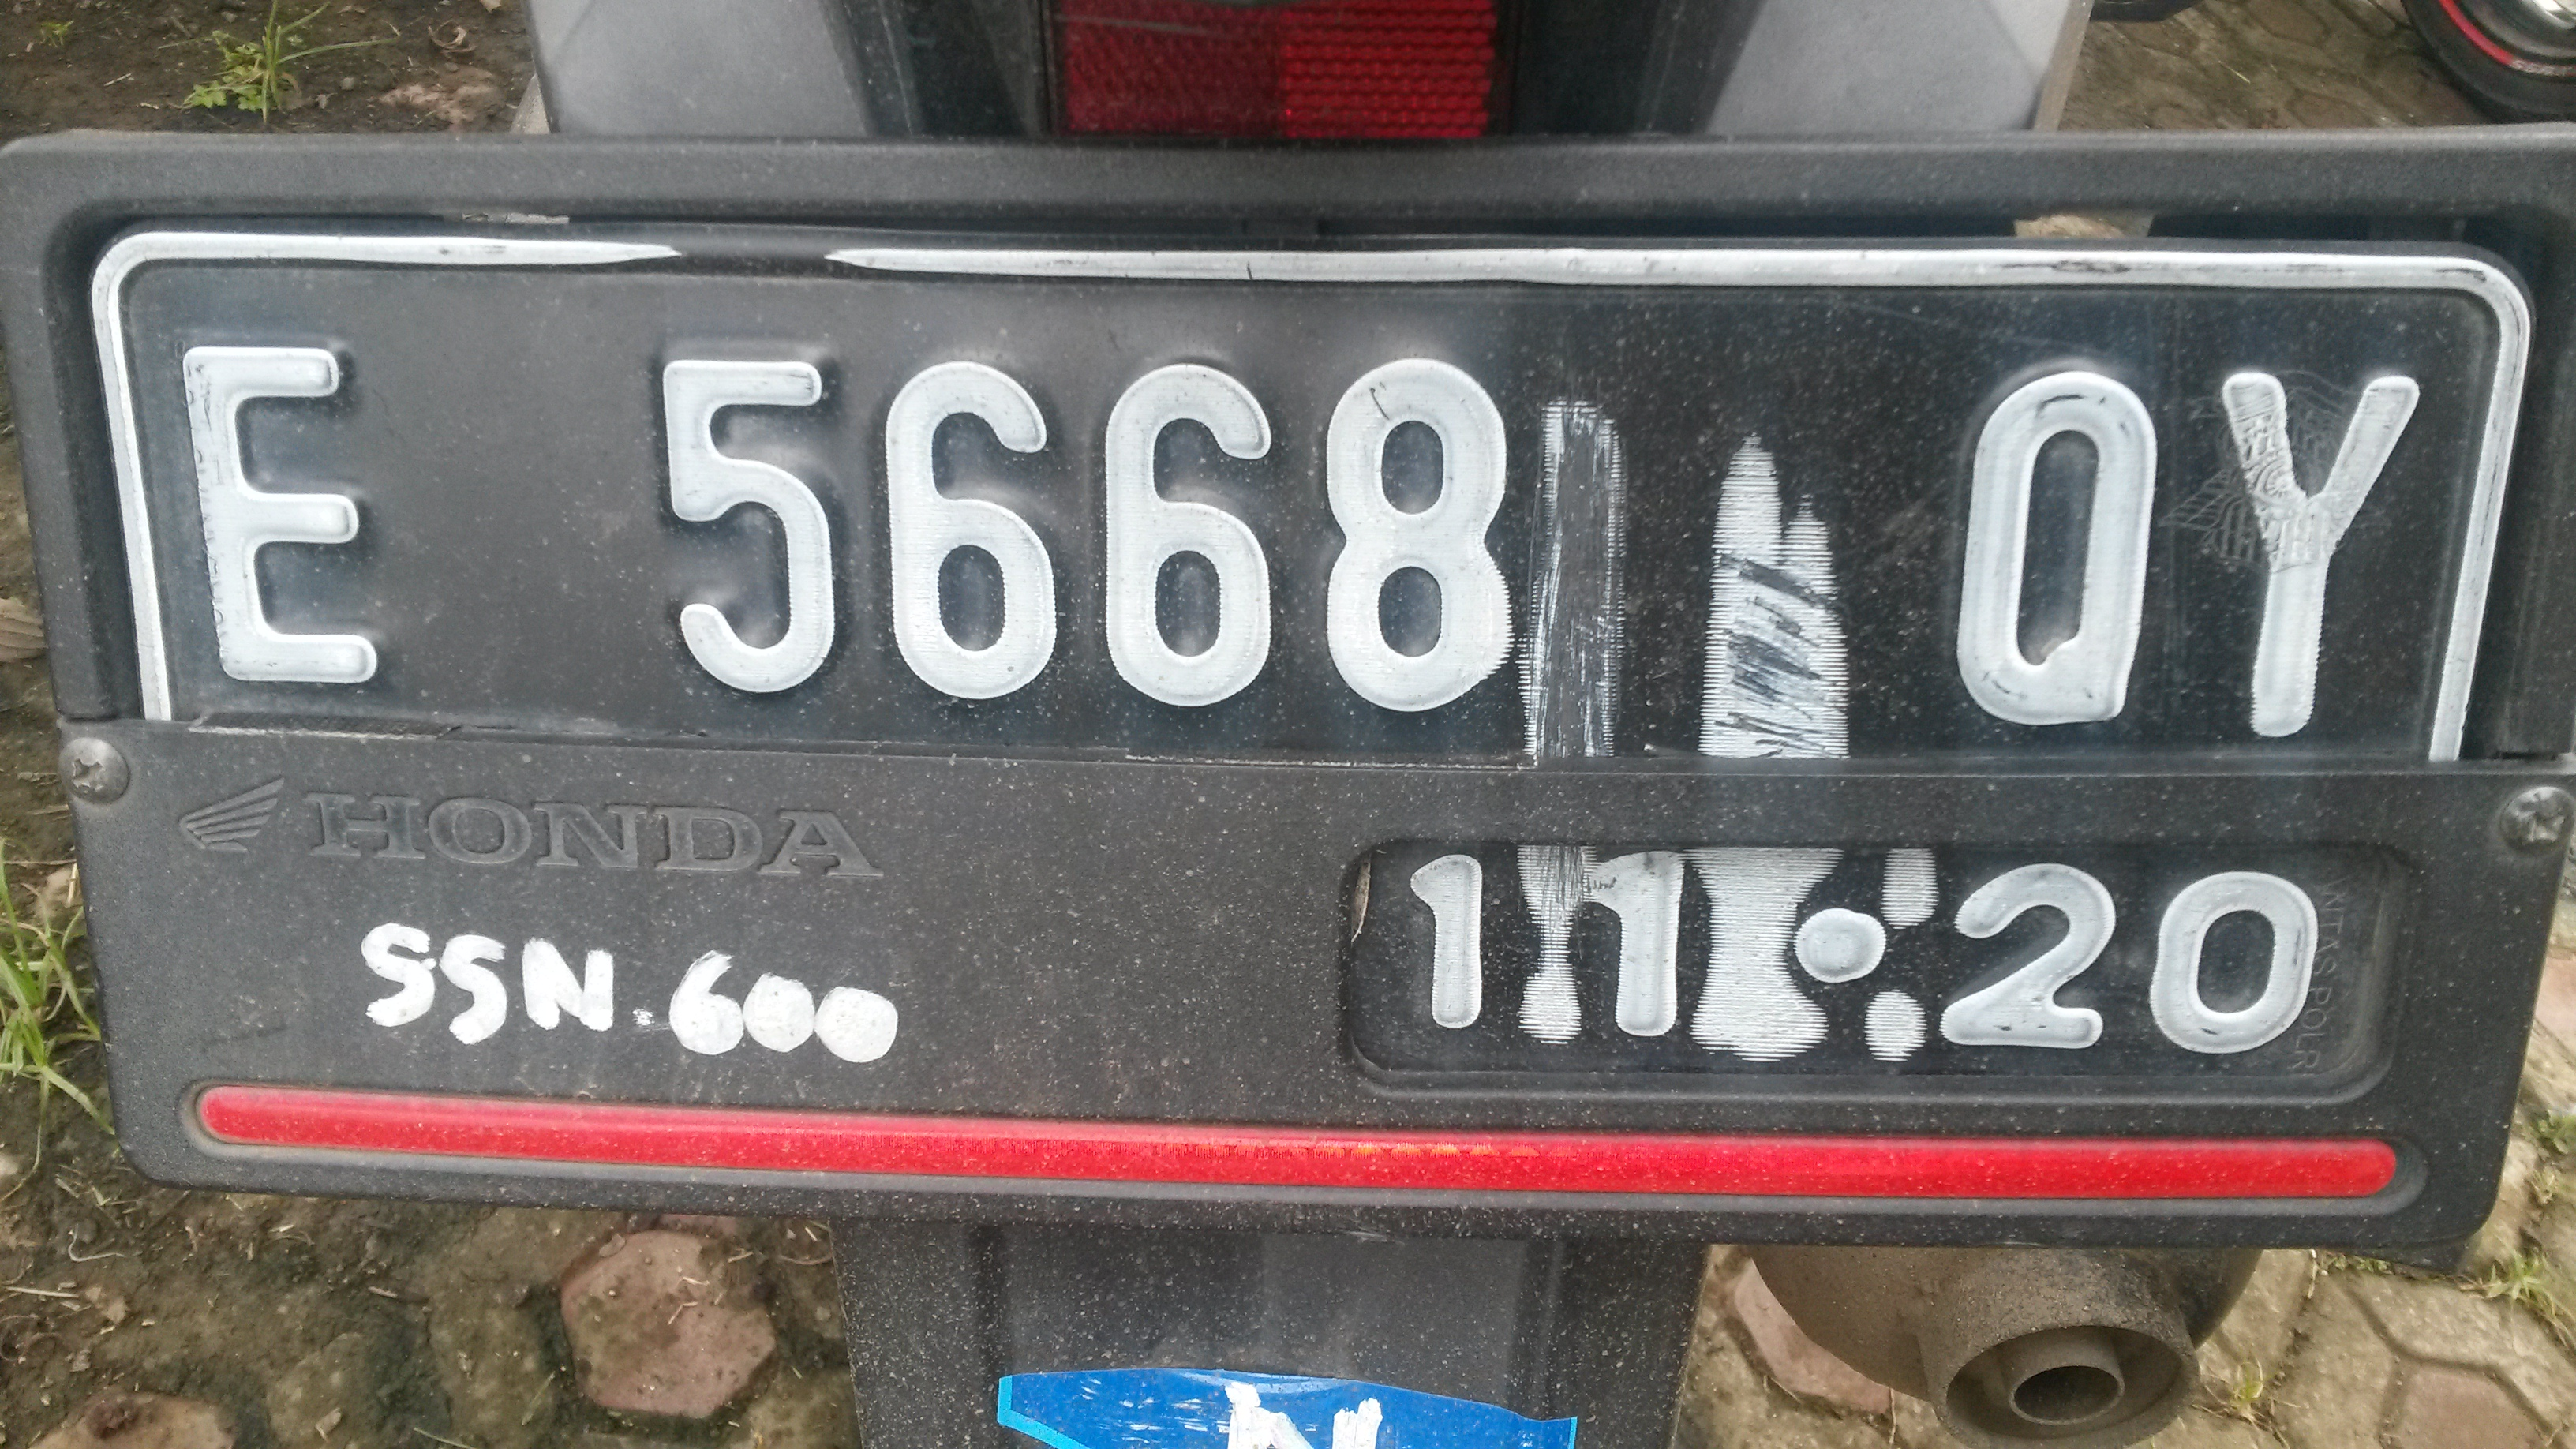plate: (94, 220, 2537, 1106)
